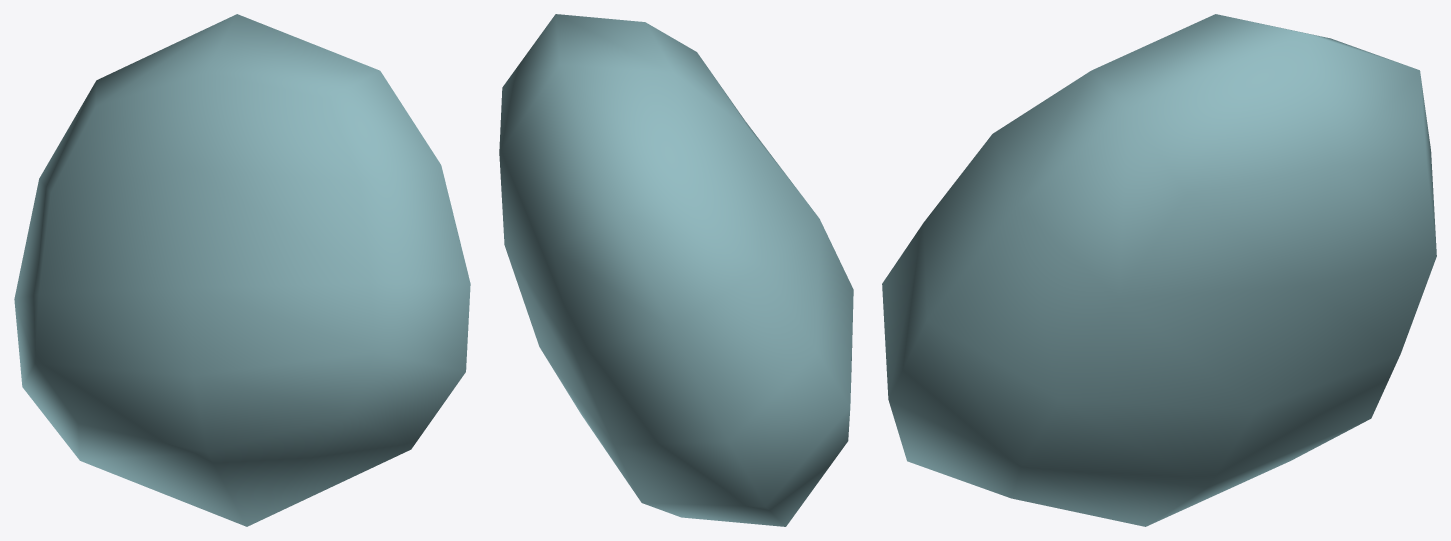
File: dragonCube_013.fbx
3 views of the same model, side by side, from view 1: azimuth 30°, elevation 25°; view 2: azimuth 150°, elevation 25°; view 3: azimuth 270°, elevation 25° (orthographic). The views are drawn at different scales.
Parts seen in each view (by area): view 1: Cube.013; view 2: Cube.013; view 3: Cube.013.
Boxes of the visible parts, x1,y1,x2,y2 form: Cube.013: (14,14,470,526); Cube.013: (499,14,853,526); Cube.013: (882,14,1436,526).
Bounding box in the file's own units: 136 × 153 × 145.
